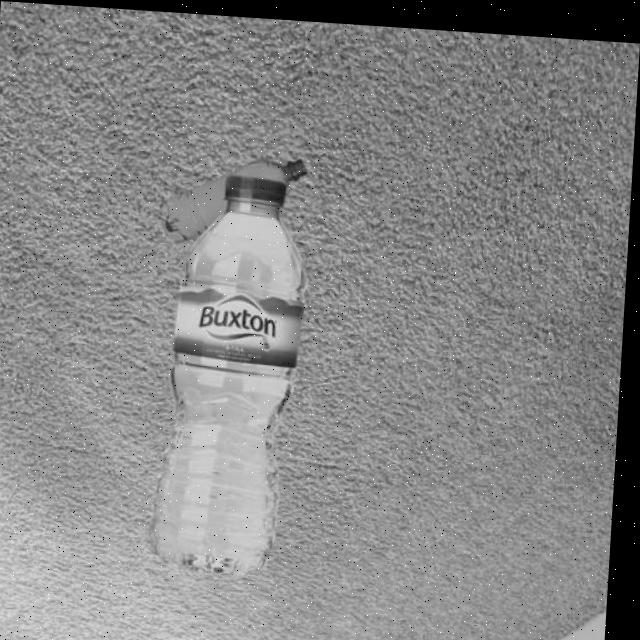bottle: (145, 148, 318, 577)
